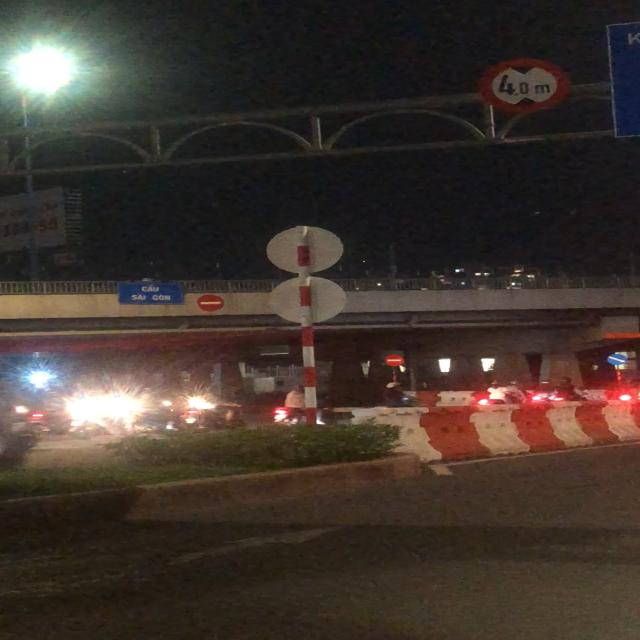Bien bao cam di nguoc chieu: (195, 294, 226, 312), (384, 352, 406, 368)
Bien bao huong phai di vong chuong ngai vat: (607, 353, 629, 366)
